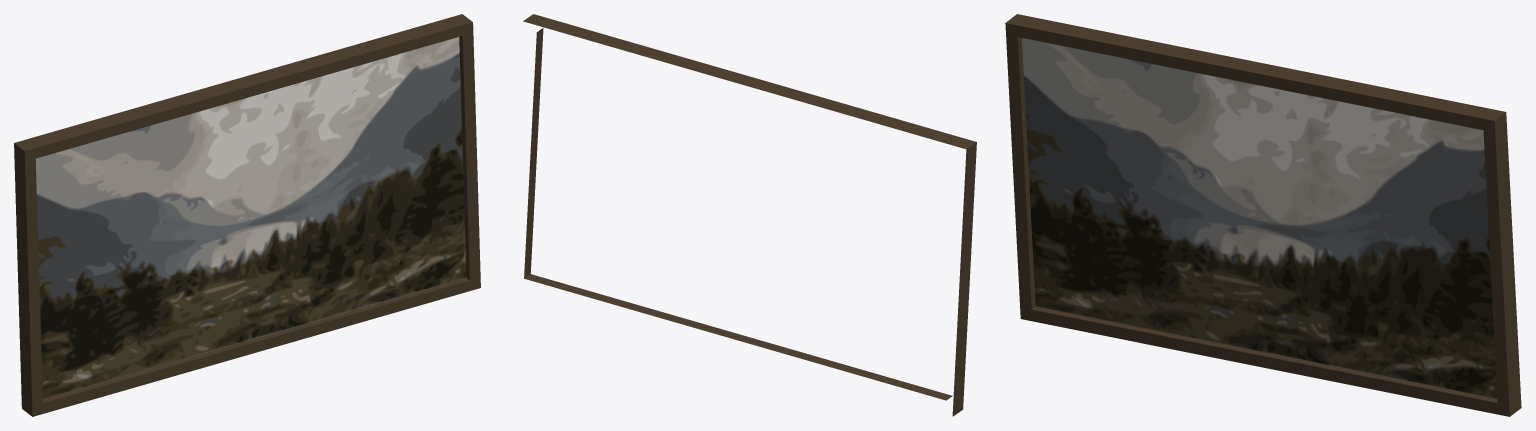
File: WidePainting1.glb
The picture shows the model from 3 angles, left to right: view 1: azimuth 30°, elevation 25°; view 2: azimuth 150°, elevation 25°; view 3: azimuth 330°, elevation 25°; orthographic projection. The views are drawn at different scales.
Parts seen in each view (by area): view 1: Cube.001, Cube; view 2: Cube; view 3: Cube.001, Cube.
Boxes of the visible parts, bbox=[...] form: Cube.001: bbox=[35, 37, 466, 399]; Cube: bbox=[14, 14, 480, 416]; Cube: bbox=[523, 14, 976, 416]; Cube.001: bbox=[1022, 38, 1497, 398]; Cube: bbox=[1005, 14, 1521, 416].
Bounding box in the file's own units: 1.95 × 1.18 × 0.1027.
2 materials, 2 textured.
